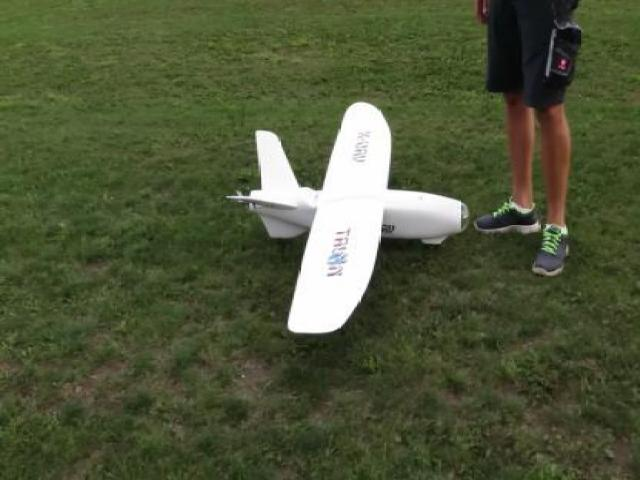uav: (231, 98, 471, 340)
